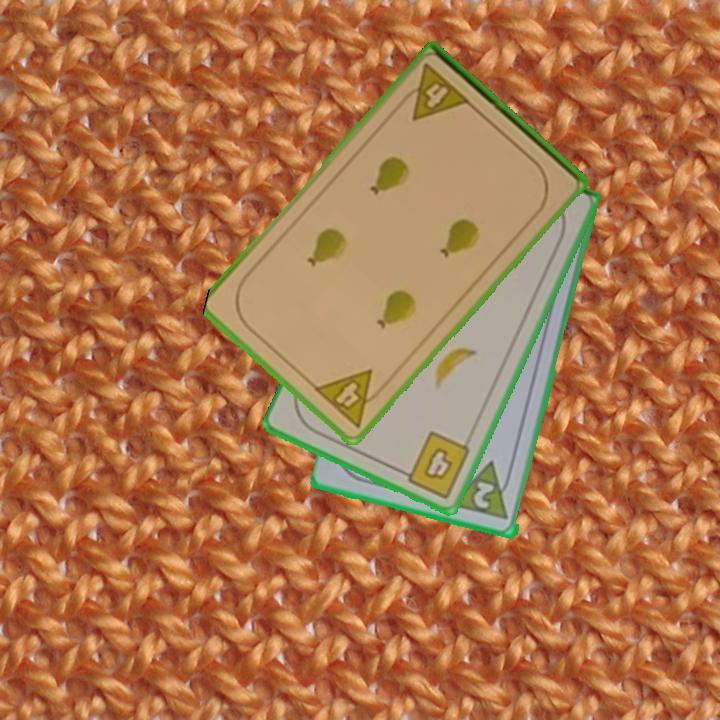2p: (449, 458, 517, 523)
4b: (395, 428, 474, 502)
4p: (310, 365, 391, 431), (395, 60, 473, 124)
